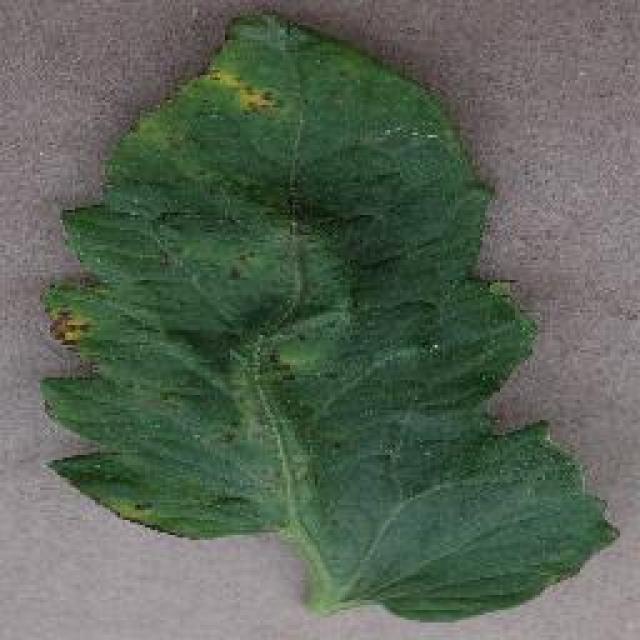bacterial spot: (31, 10, 625, 622)
